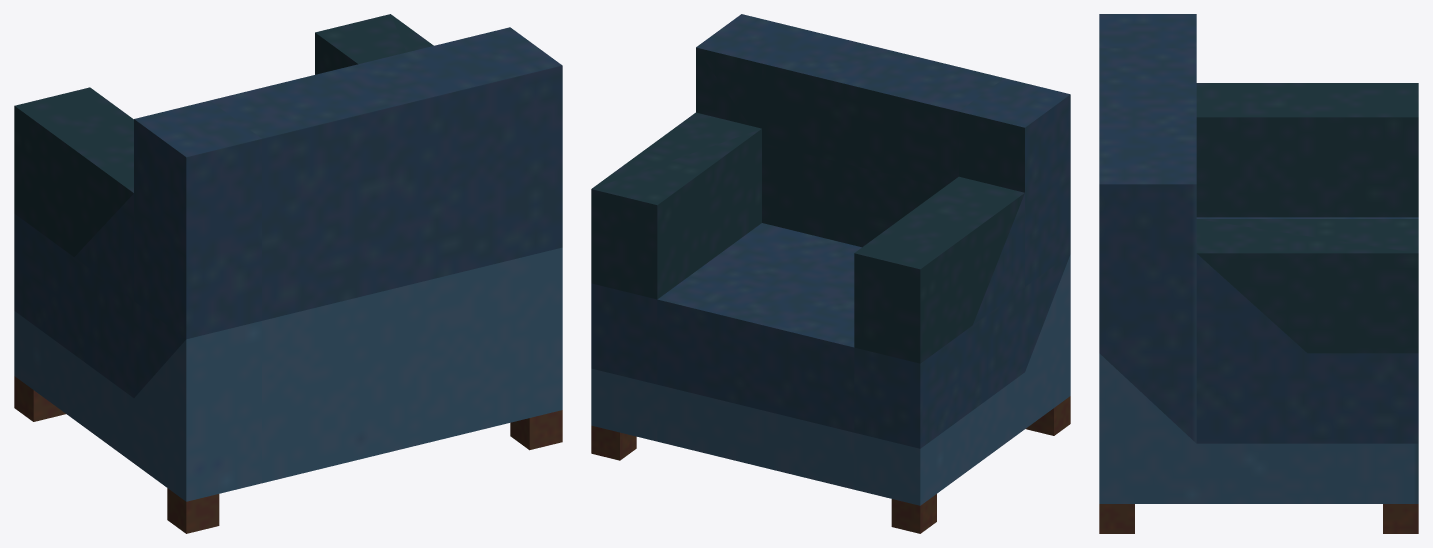
The model's file is loveseat.fbx.
3 views of the same model, side by side, from view 1: azimuth 30°, elevation 25°; view 2: azimuth 150°, elevation 25°; view 3: azimuth 270°, elevation 25° (orthographic). The views are drawn at different scales.
Parts seen in each view (by area): view 1: Loveseat; view 2: Loveseat; view 3: Loveseat.
Boxes of the visible parts, bbox=[...] form: Loveseat: bbox=[14, 14, 562, 533]; Loveseat: bbox=[591, 14, 1070, 533]; Loveseat: bbox=[1099, 14, 1418, 533].
Size of the model in its own units: 1.41 by 1.11 by 1.35.
Materials: 2 (2 with a texture image).
